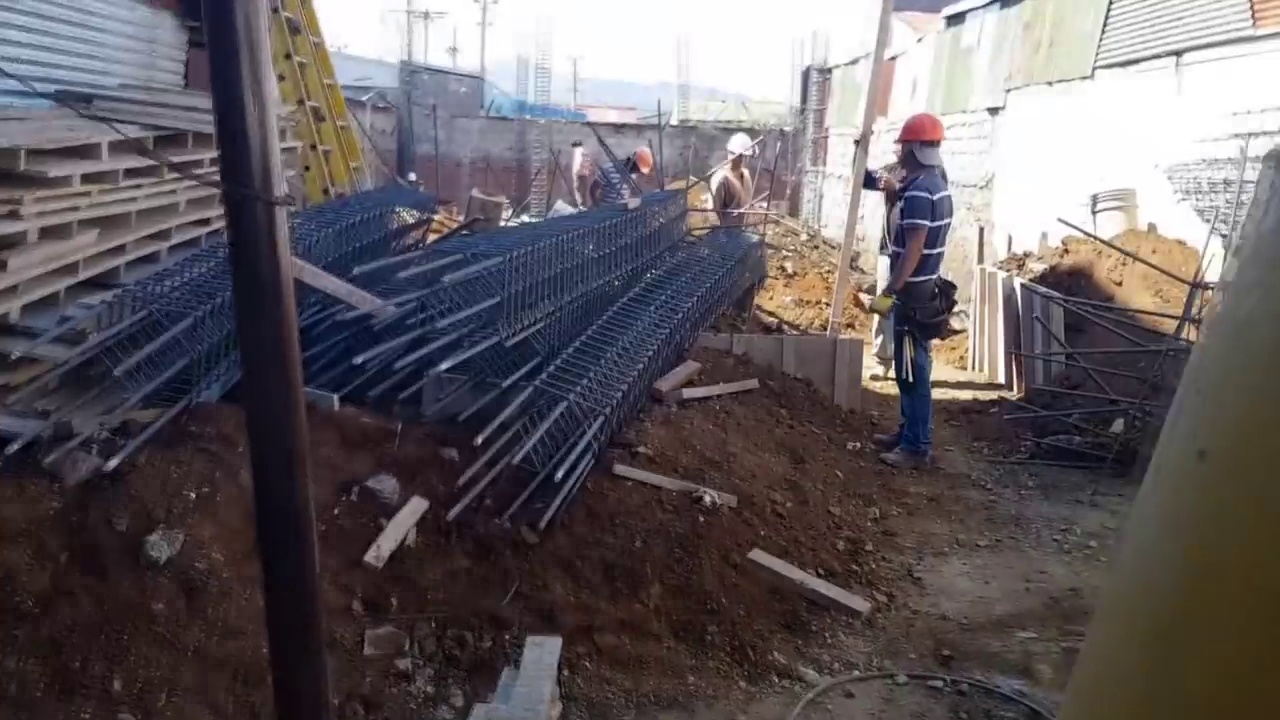helmet: (896, 111, 949, 148), (728, 137, 755, 161), (633, 147, 653, 176)
helmet-off: (570, 137, 582, 151)
helmet-on: (902, 112, 950, 172), (723, 132, 756, 175), (623, 146, 655, 179)
person: (871, 108, 962, 471), (715, 135, 760, 252), (589, 143, 655, 208), (570, 136, 590, 214)
